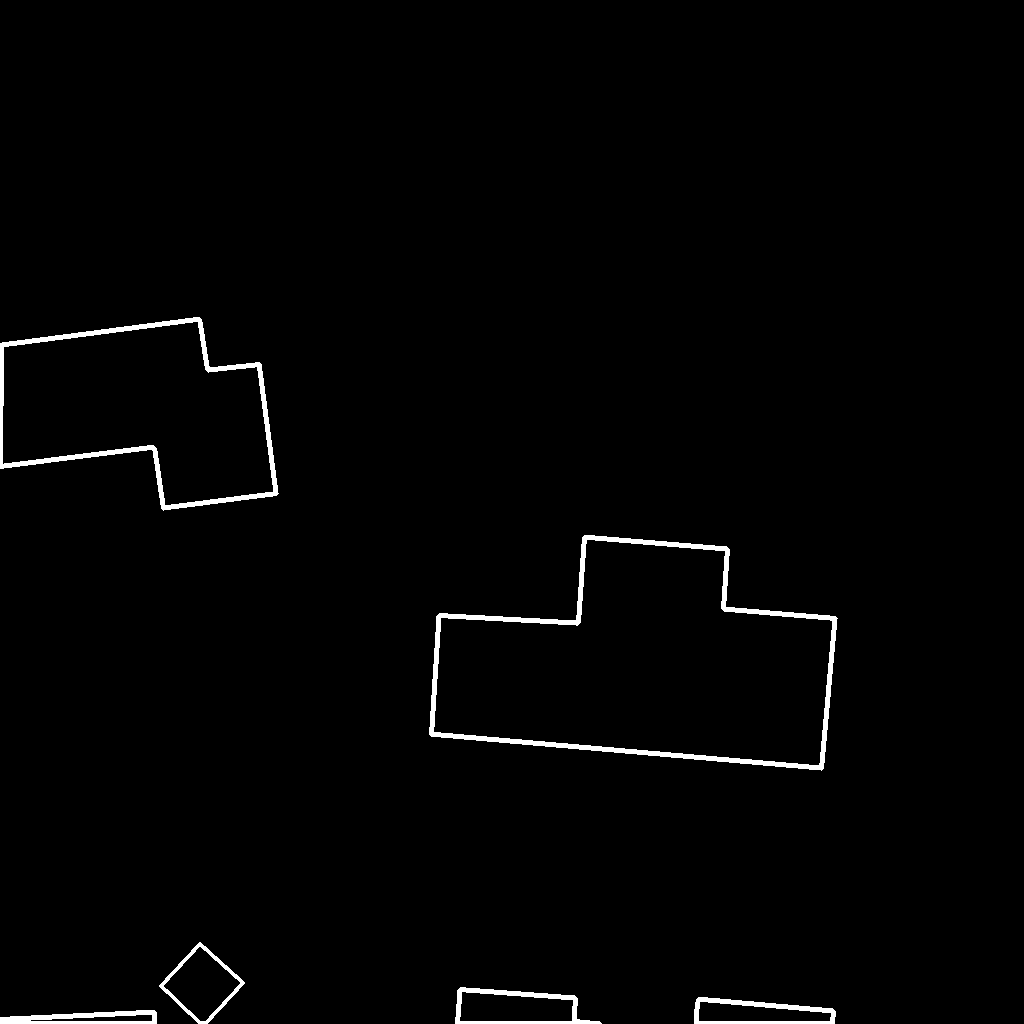building: (431, 537, 836, 769), (0, 319, 277, 509), (457, 989, 835, 1024), (161, 944, 244, 1024), (0, 1012, 156, 1024)
